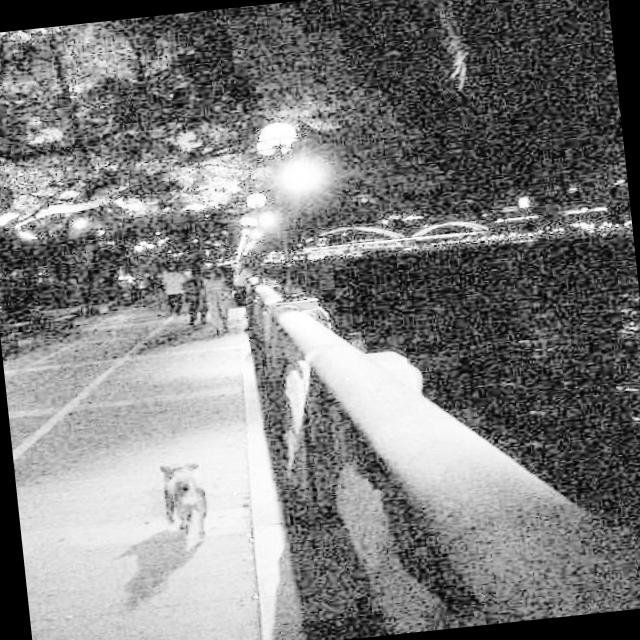Dog: (107, 449, 286, 588)
